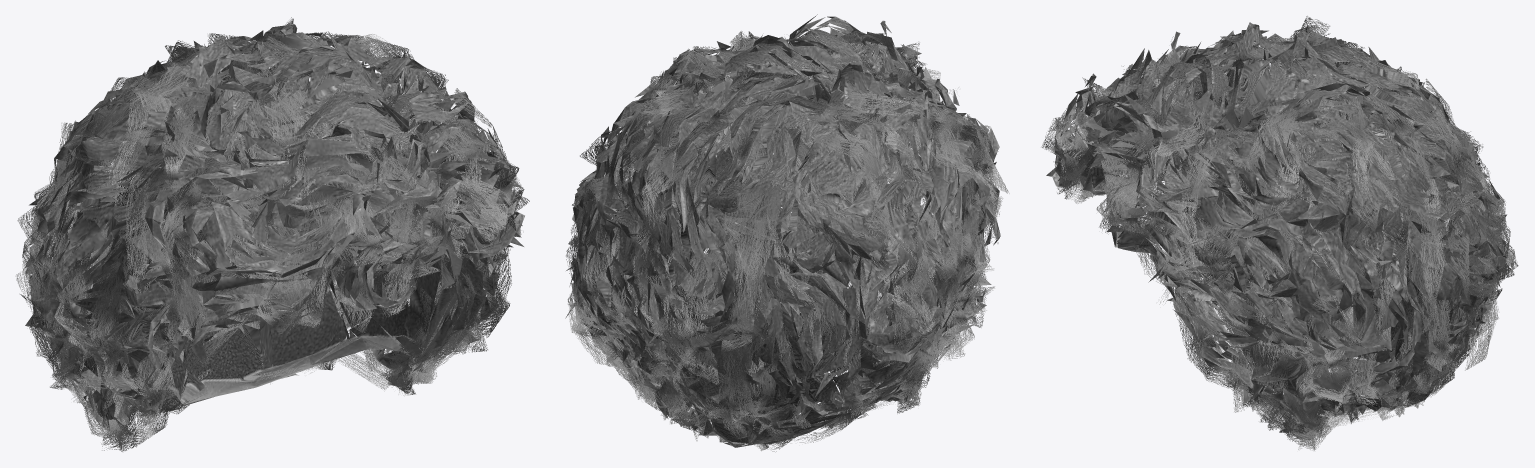
Rendered from hair_curls.glb.
The picture shows the model from 3 angles, left to right: view 1: azimuth 30°, elevation 25°; view 2: azimuth 150°, elevation 25°; view 3: azimuth 270°, elevation 25°; orthographic projection. The views are drawn at different scales.
Parts seen in each view (by area): view 1: Mesh_0, haircards; view 2: Mesh_0, haircards; view 3: Mesh_0, haircards.
Boxes of the visible parts, x1,y1,x2,y2 form: Mesh_0: (25, 23, 524, 434); haircards: (15, 17, 529, 451); Mesh_0: (565, 14, 1000, 447); haircards: (566, 31, 1009, 452); Mesh_0: (1046, 22, 1506, 440); haircards: (1041, 16, 1518, 450).
Size of the model in its own units: 0.214 by 0.1833 by 0.2272.
2 materials, 2 textured.
